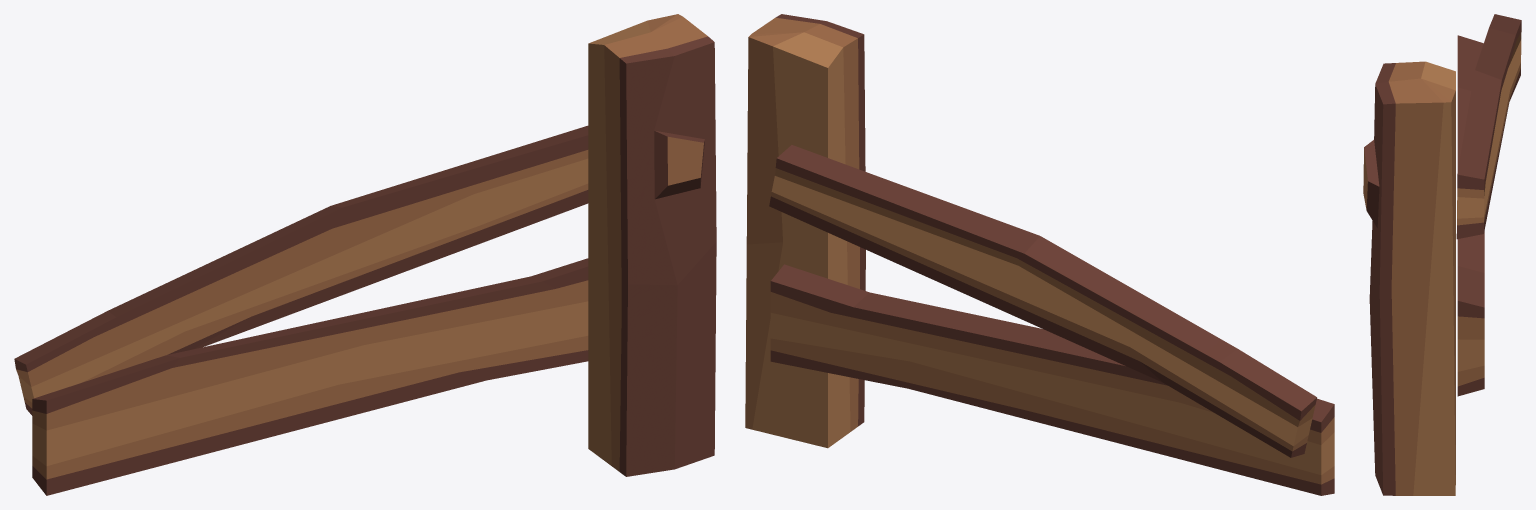
File: fence_plank_broken.fbx
3 renders of one model, left to right at view 1: azimuth 30°, elevation 25°; view 2: azimuth 150°, elevation 25°; view 3: azimuth 270°, elevation 25°, orthographic. The views are drawn at different scales.
Parts seen in each view (by area): view 1: fence_plank_broken; view 2: fence_plank_broken; view 3: fence_plank_broken.
Part boxes in pixels (x1,y1,x2,y2): fence_plank_broken: (14,14,716,495); fence_plank_broken: (745,14,1334,495); fence_plank_broken: (1363,14,1521,495).
Bounding box in the file's own units: 110 × 69.93 × 25.26.
